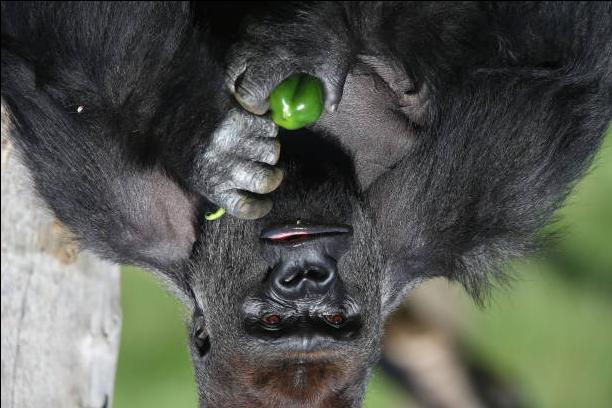gorille_Autres: (1, 0, 610, 401)
